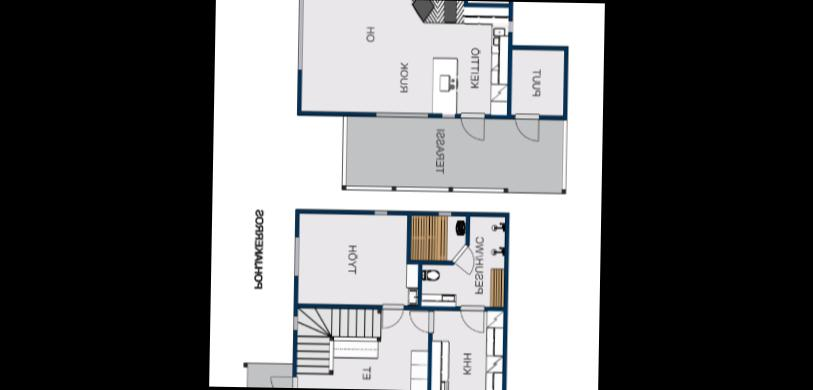door: (512, 110, 540, 142), (458, 301, 486, 333), (460, 110, 486, 141), (452, 244, 476, 277), (407, 308, 436, 334), (380, 302, 404, 330), (267, 372, 298, 388)
window: (293, 0, 306, 73), (372, 108, 429, 120), (291, 231, 300, 281), (370, 206, 388, 215), (506, 18, 515, 35), (291, 312, 299, 330), (434, 208, 453, 215)
